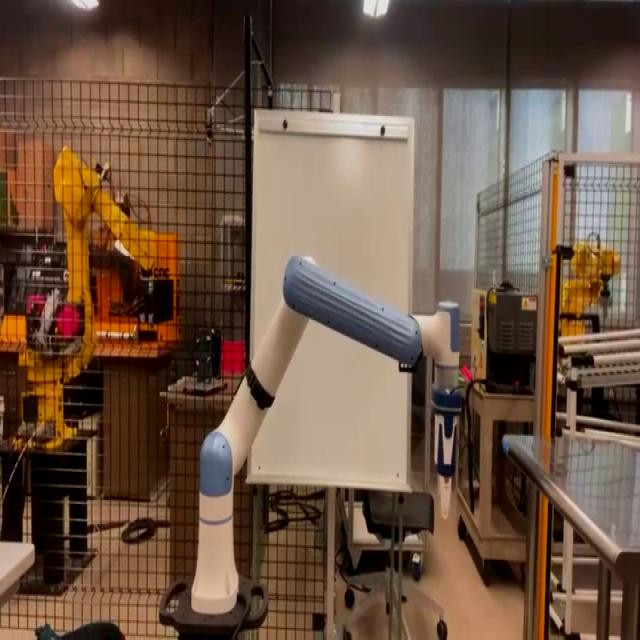robot: (158, 252, 462, 639)
